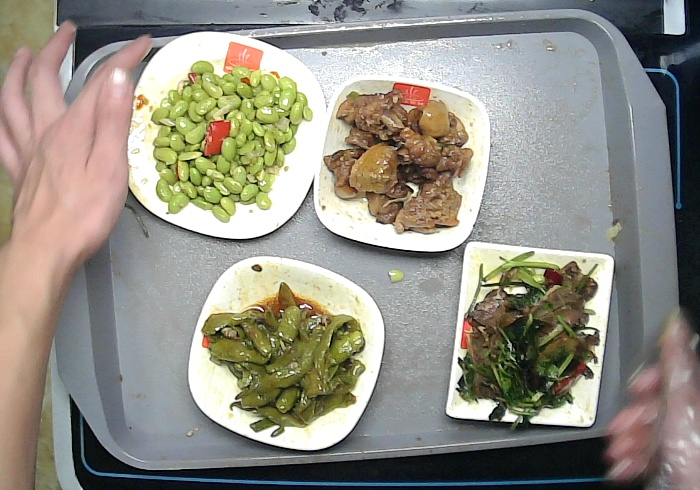SHKJ-Bai_Se_Cai_Die: (184, 253, 387, 452)
SHKJ-Bai_Se_Si_Fang_Cai_Die: (126, 29, 328, 240)
SHKJ-Bai_Se_Xiao_Fang_Die: (311, 72, 494, 253)
SHKJ-Si_Fang_Min: (443, 239, 615, 430)
